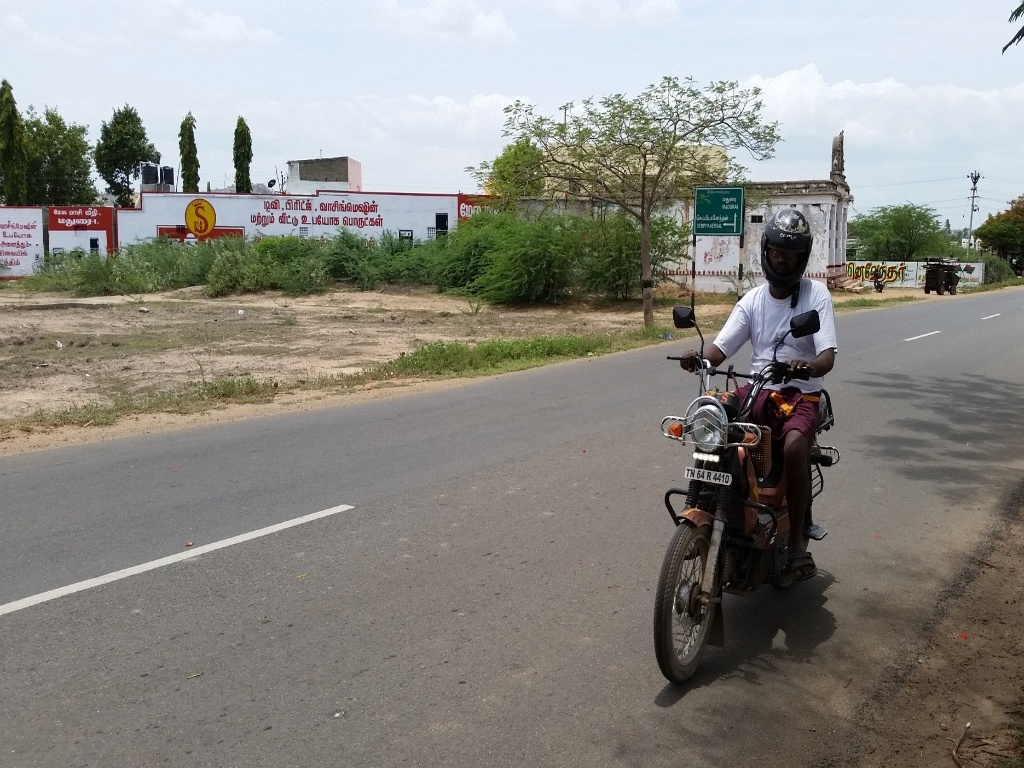biker: (634, 164, 863, 705)
helmet: (753, 195, 827, 308)
